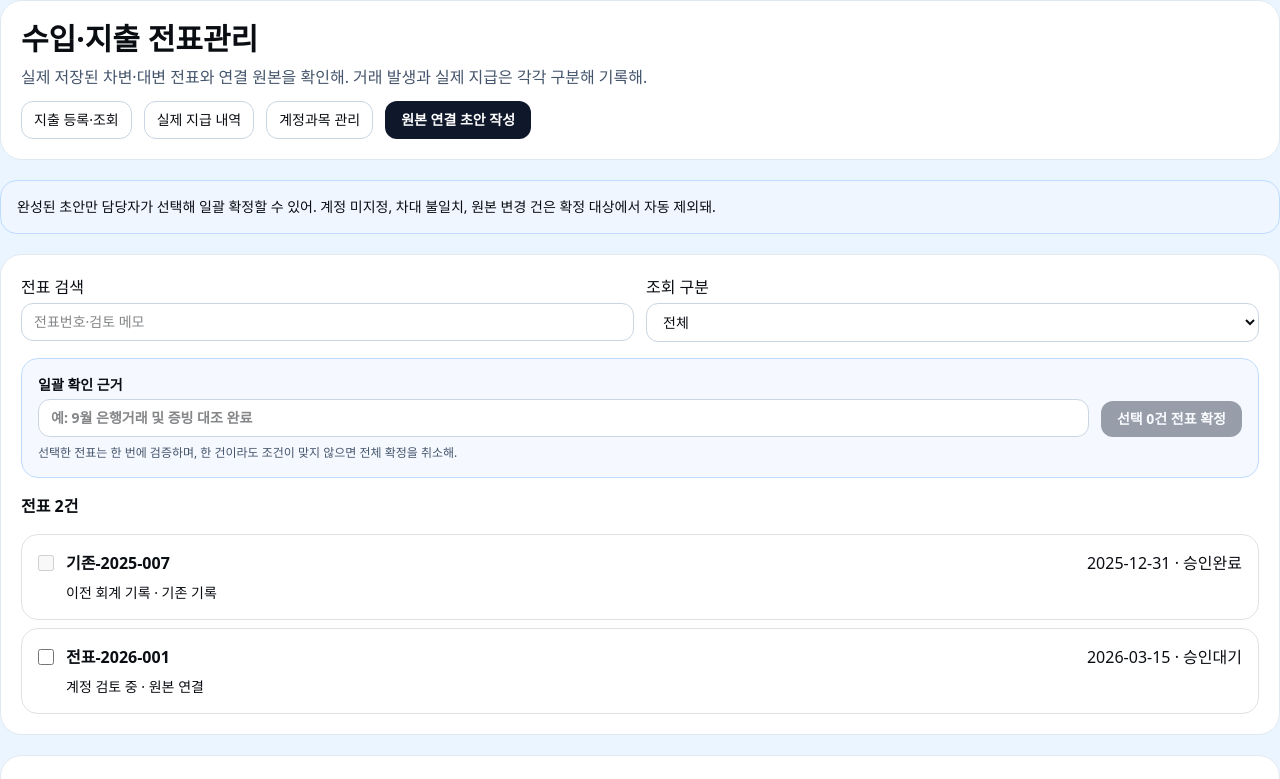
Test: accounting drafts and original records › batch-confirms only complete, balanced, source-current managed drafts
Click the checkbox named "전표-2026-001 일괄 확정 선택" at (46, 657), box [38,649,54,665]
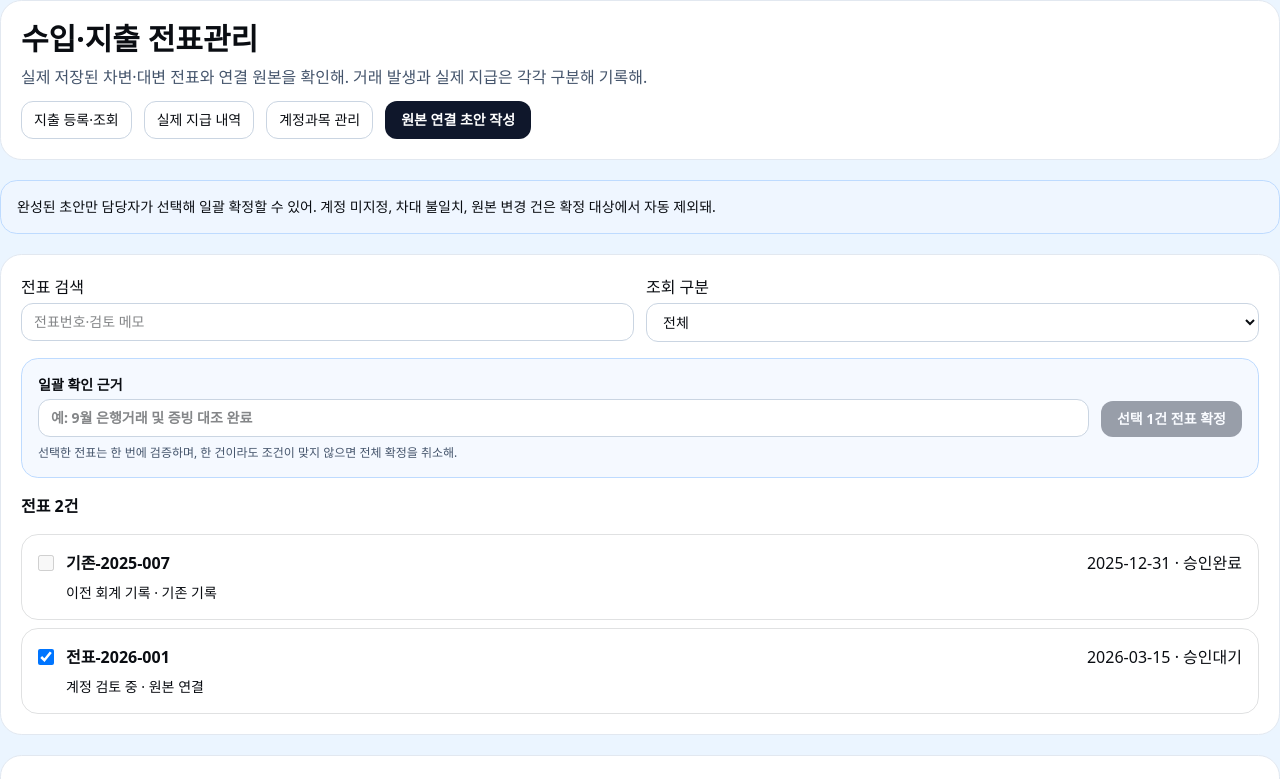
Expected: the button "선택 1건 전표 확정" is disabled, [1101,401,1242,437]
Type "9월 원본 대조 완료" into the field labelled "일괄 확인 근거" at (563, 418), box [38,399,1089,437]
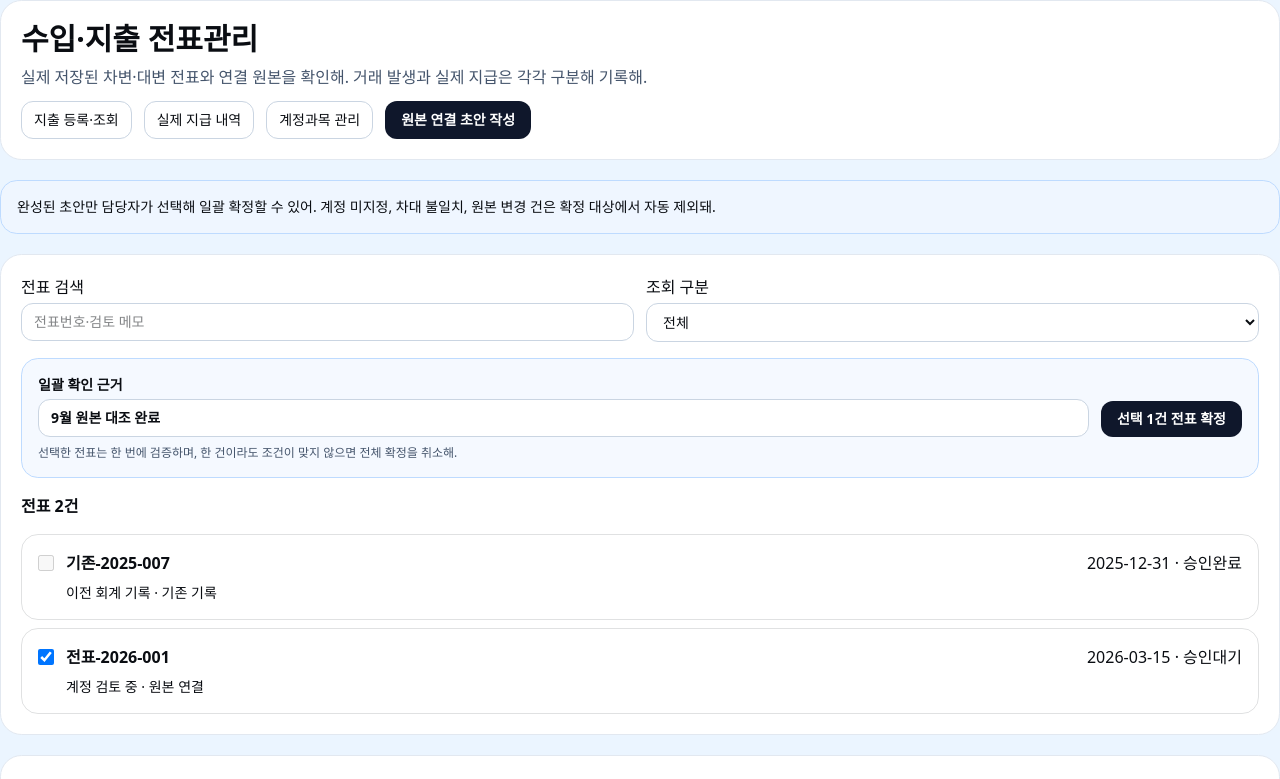
Click the button "선택 1건 전표 확정" at (1171, 419), box [1101,401,1242,437]
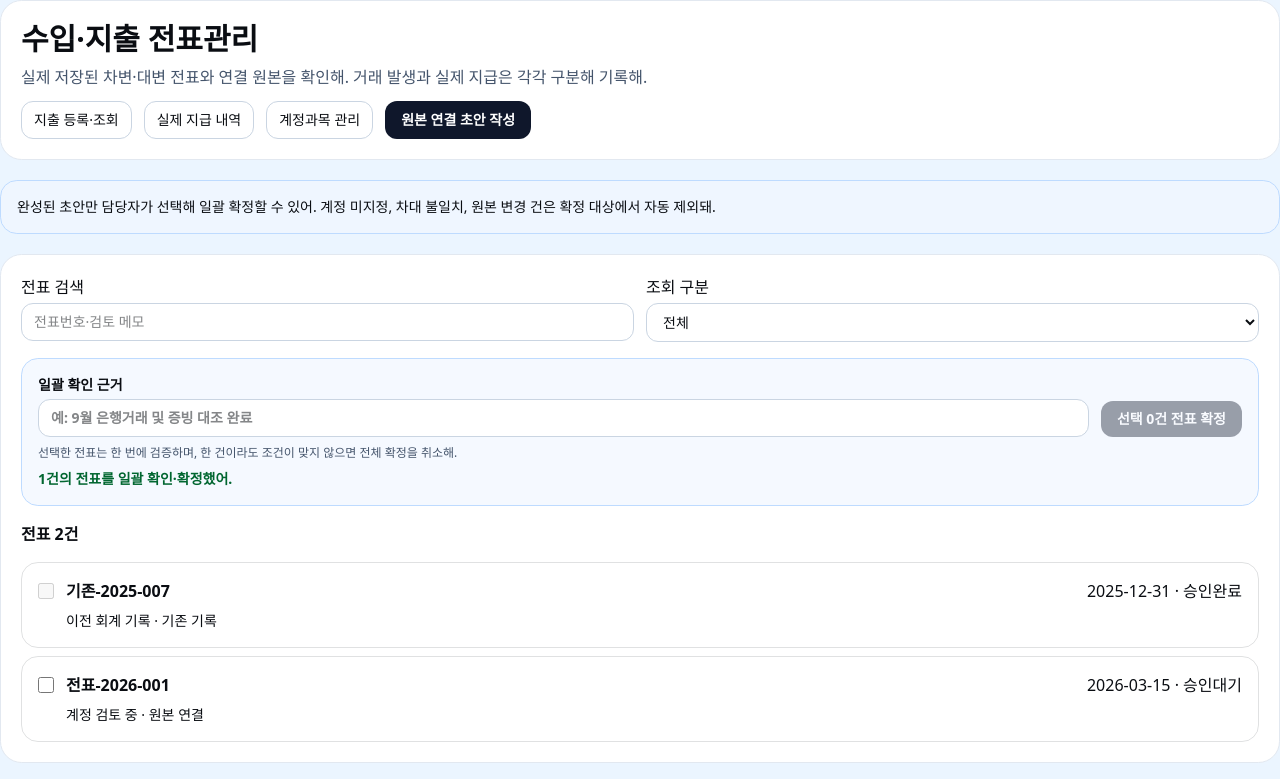
Result: the text "1건의 전표를 일괄 확인·확정했어." is shown at [38,469,232,488]
